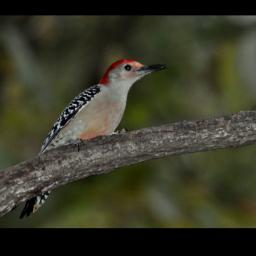Woodpecker: (19, 58, 169, 220)
